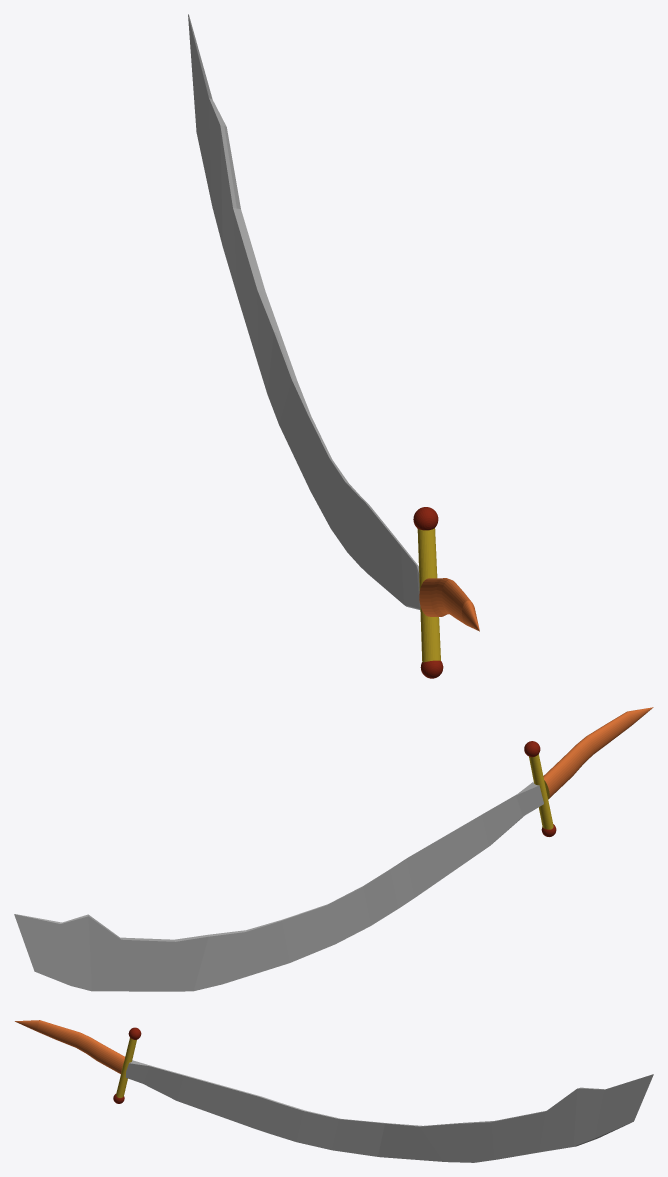
File: Scimitar.fbx
The picture shows the model from 3 angles, top to bottom: view 1: azimuth 30°, elevation 25°; view 2: azimuth 150°, elevation 25°; view 3: azimuth 270°, elevation 25°; orthographic projection. The views are drawn at different scales.
Visible parts, largest first — view 1: Cube; view 2: Cube; view 3: Cube.
Part boxes in pixels (x1,y1,x2,y2): Cube: (188,14,479,678); Cube: (14,707,653,991); Cube: (15,1020,653,1162).
Bounding box in the file's own units: 211 × 139 × 672.
